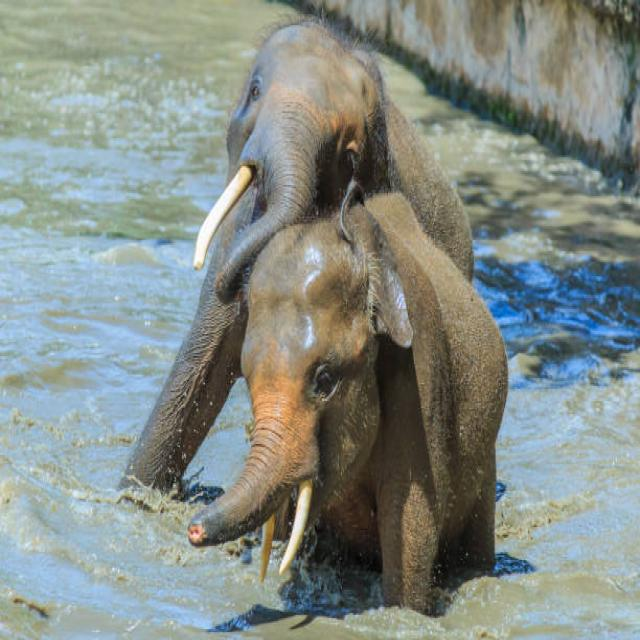Elephant: (121, 13, 529, 640), (202, 195, 512, 616)
